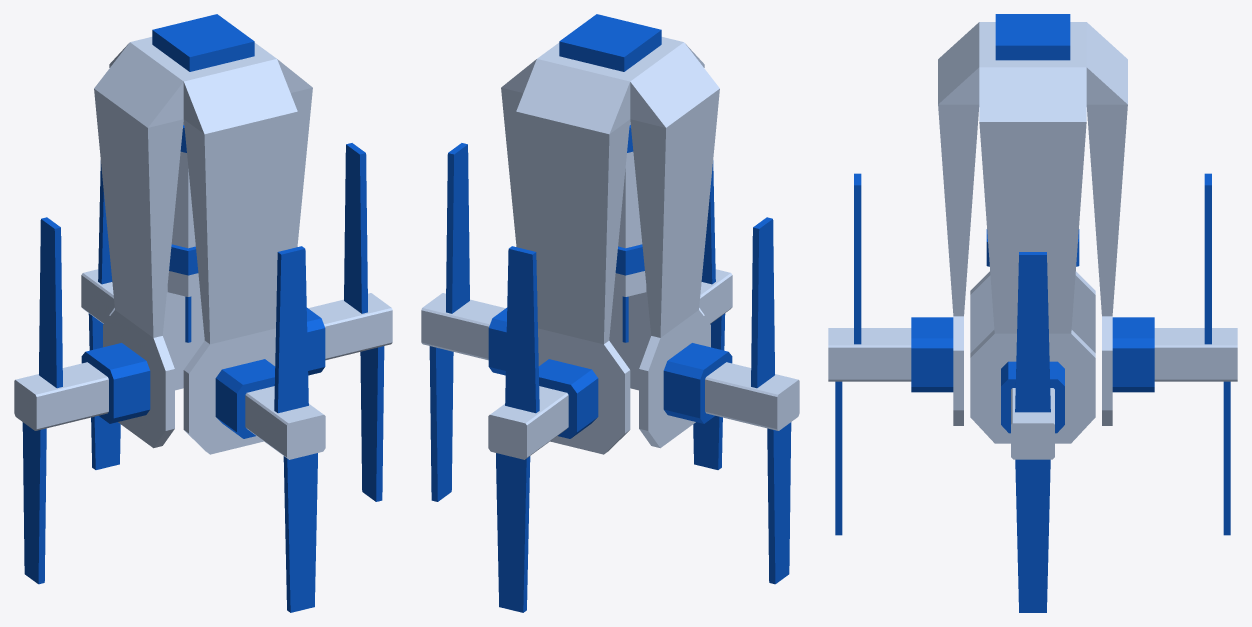
The model's file is Transition_Drone_0.fbx.
The picture shows the model from 3 angles, left to right: view 1: azimuth 30°, elevation 25°; view 2: azimuth 150°, elevation 25°; view 3: azimuth 270°, elevation 25°; orthographic projection.
Visible parts, largest first — view 1: ClosedDrone; view 2: ClosedDrone; view 3: ClosedDrone.
Boxes of the visible parts, x1,y1,x2,y2 form: ClosedDrone: (14,14,392,612); ClosedDrone: (421,14,799,612); ClosedDrone: (828,14,1237,612).
Bounding box in the file's own units: 7.53 × 10.13 × 7.53.
1 material, 1 textured.
